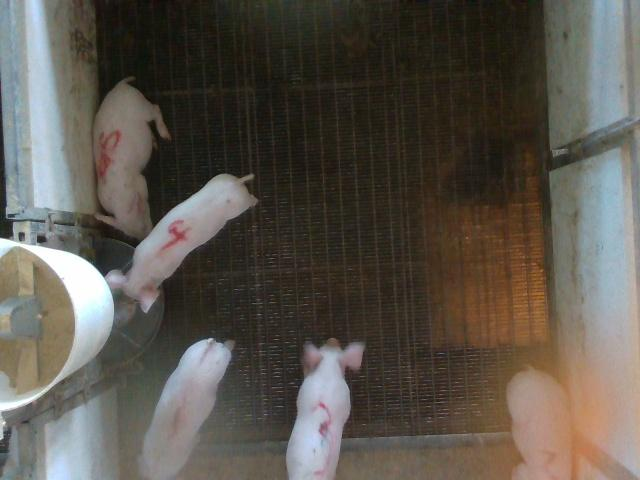pig-1: (139, 339, 233, 479)
pig-2: (506, 366, 571, 478)
pig-3: (286, 339, 365, 479)
pig-4: (106, 174, 258, 311)
pig-5: (94, 76, 171, 239)
